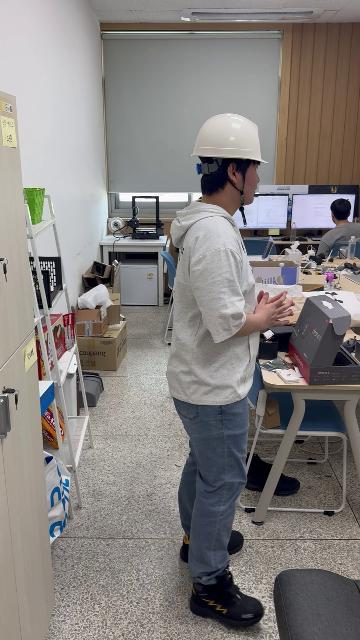helmet_worn: (189, 112, 270, 165)
shoe_not_worn: (245, 452, 298, 495)
shoe_worn: (189, 570, 263, 626), (179, 529, 241, 563)
vest_not_worn: (161, 213, 258, 404)
